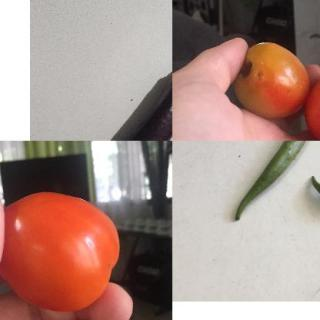Tomat: (3, 187, 127, 313), (224, 31, 320, 138)
